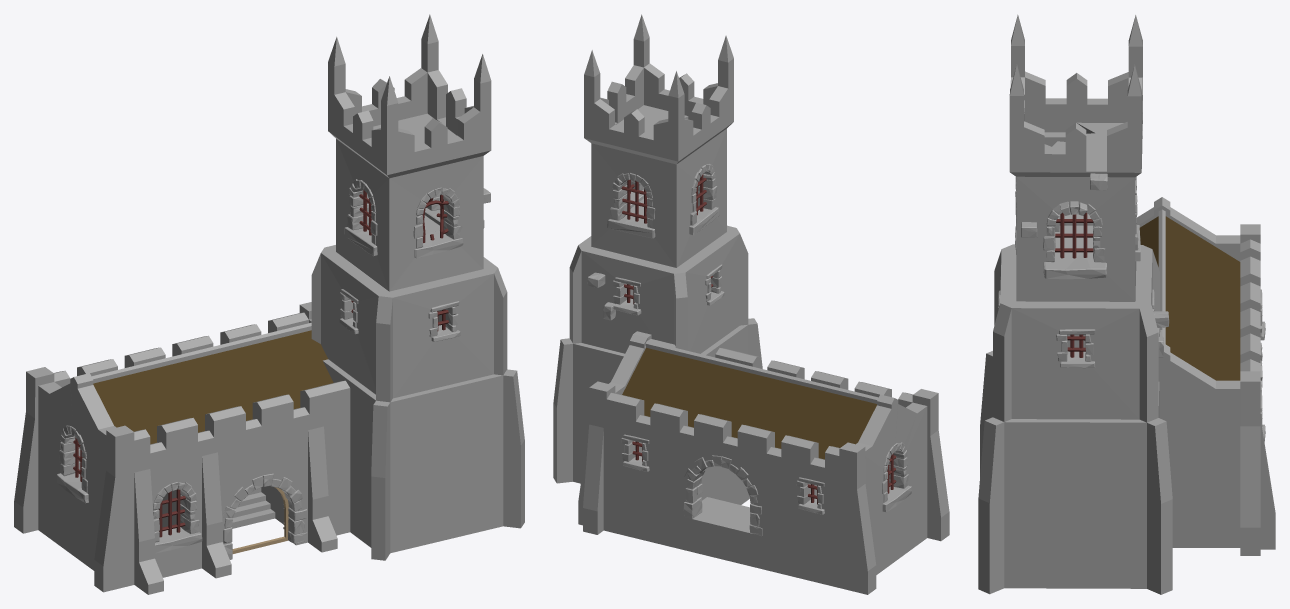
The model's file is LightStoneBuildingLargeChurch1.fbx.
3 renders of one model, left to right at view 1: azimuth 30°, elevation 25°; view 2: azimuth 150°, elevation 25°; view 3: azimuth 270°, elevation 25°, orthographic. The views are drawn at different scales.
Visible parts, largest first — view 1: LightStoneBuildingLargeChurch1; view 2: LightStoneBuildingLargeChurch1; view 3: LightStoneBuildingLargeChurch1.
Part boxes in pixels (bbox=[...]): LightStoneBuildingLargeChurch1: bbox=[14, 14, 524, 594]; LightStoneBuildingLargeChurch1: bbox=[553, 14, 949, 594]; LightStoneBuildingLargeChurch1: bbox=[978, 14, 1275, 594].
Bounding box in the file's own units: 2445 × 2806 × 1469.
4 materials, 1 textured.
